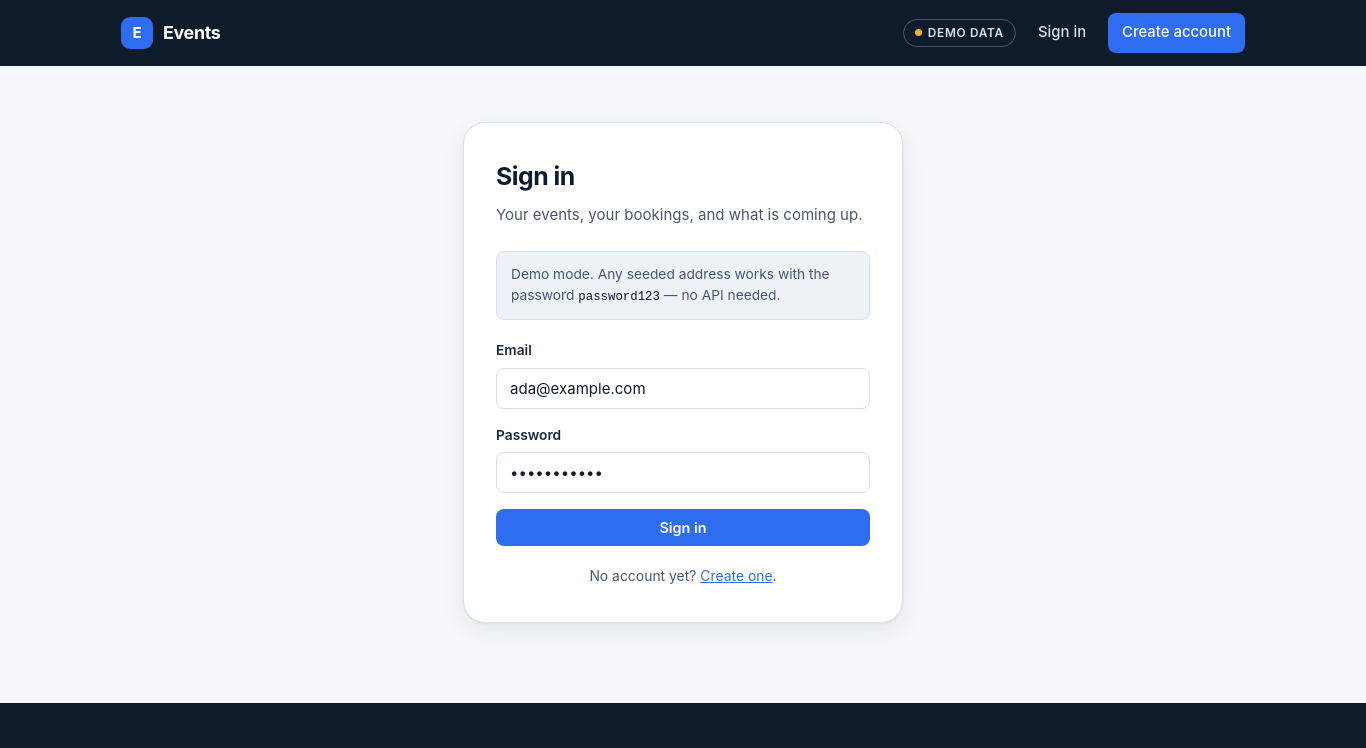
Test: the signed-in home page › renders the organized list with rows
Step 1. Click the button "Sign in" → (683, 527), box [496,509,870,546]
(page scrolled)
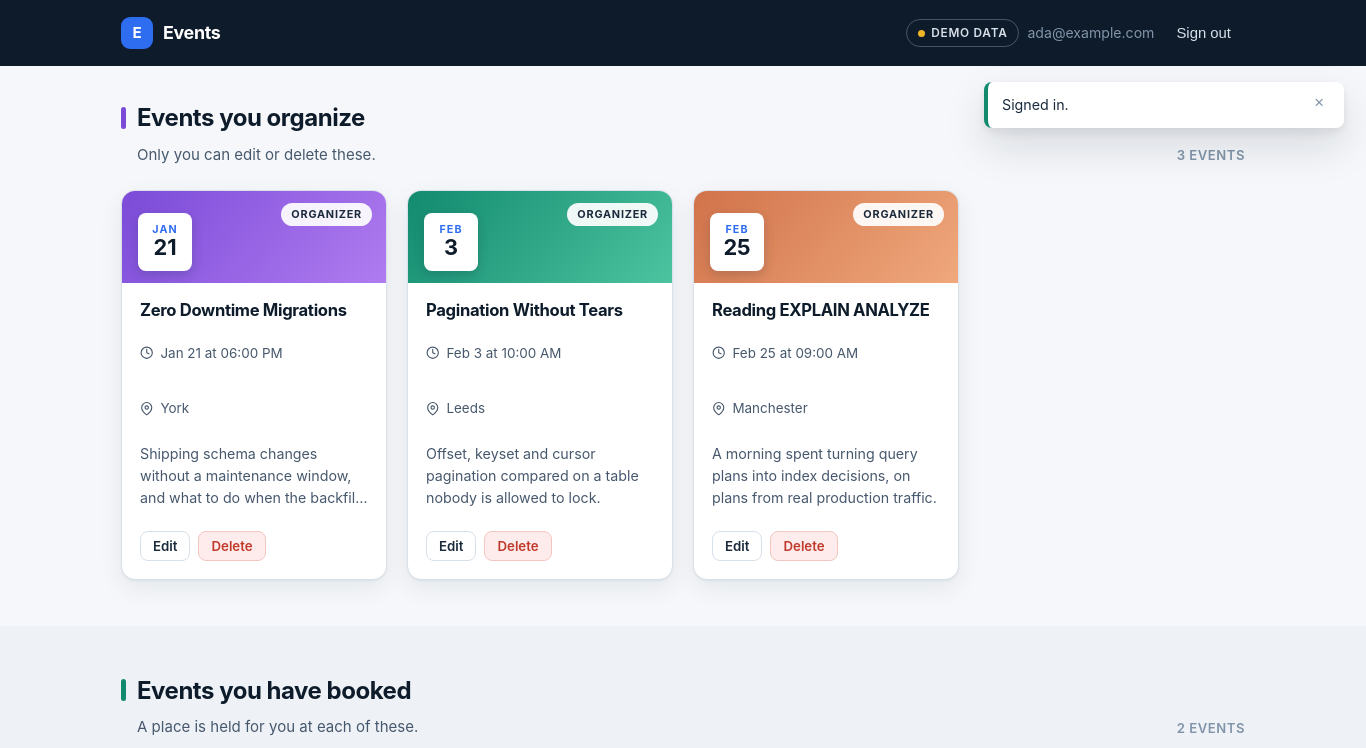
Check: the heading "Events you organize" is shown, box [121,99,376,136]
